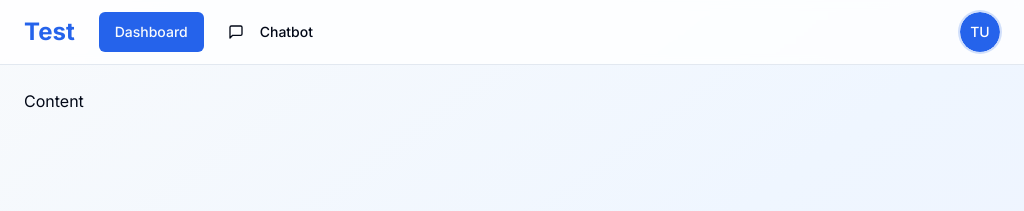
Test: DashboardLayout › should display user name and email
What coordinates should you click on to do the following:
click the button "TU"
I would click on:
 (980, 32)
Its box is [960, 12, 1000, 52].
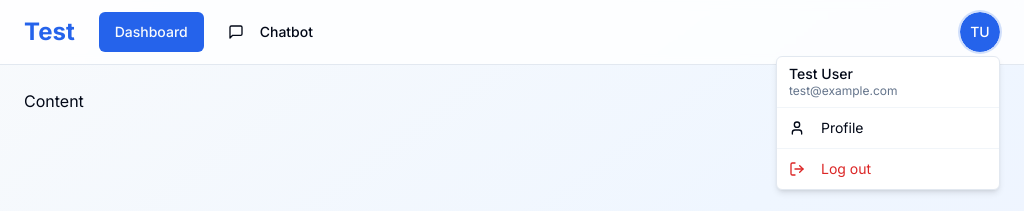
Check: the text "Test User" is shown, box [789, 65, 853, 82]
Check: the text "test@example.com" is shown, box [789, 83, 898, 98]
